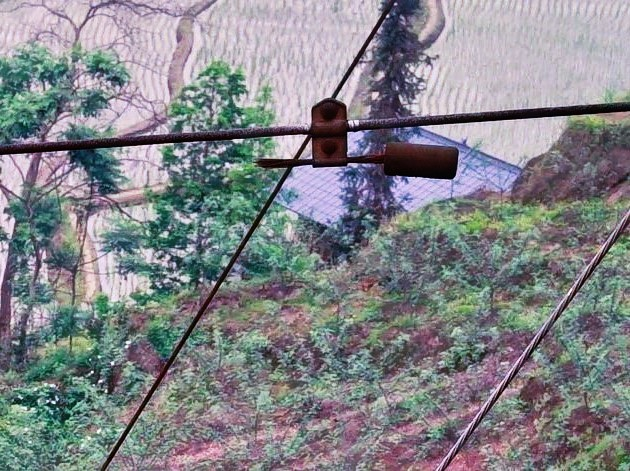Damage of shockproof hammer: (245, 89, 475, 189)
